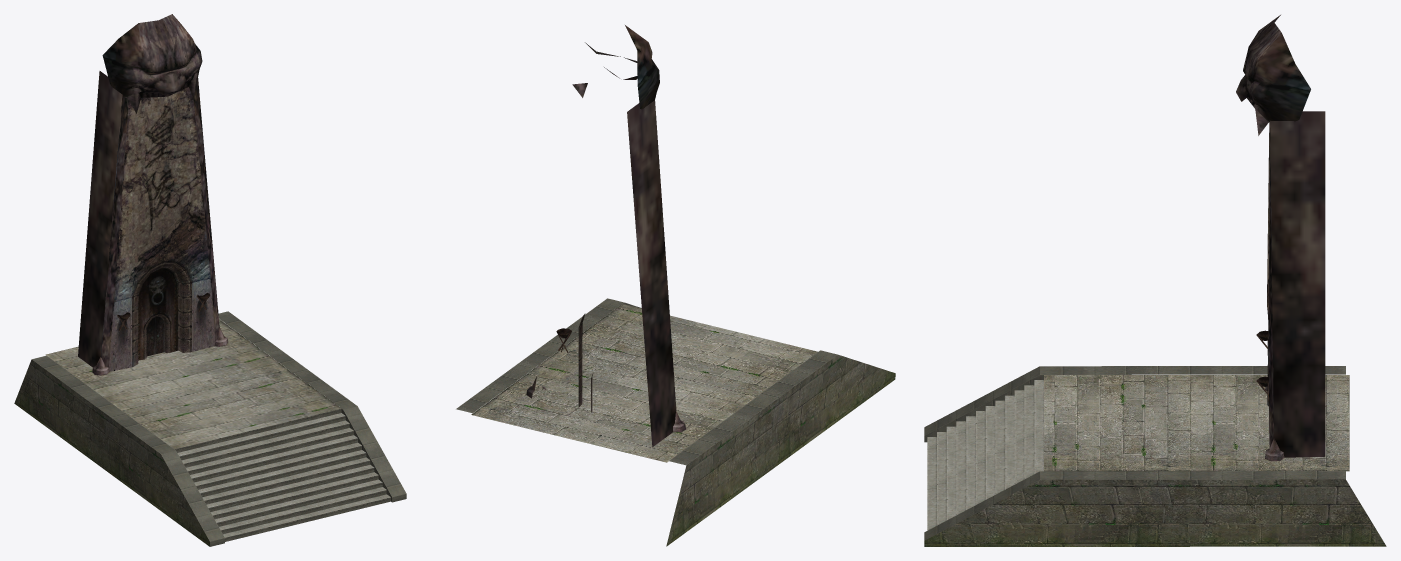
The model's file is cj_jin_entdoor01_01.glb.
3 renders of one model, left to right at view 1: azimuth 30°, elevation 25°; view 2: azimuth 150°, elevation 25°; view 3: azimuth 270°, elevation 25°, orthographic. The views are drawn at different scales.
Parts seen in each view (by area): view 1: cj_jin_entdoor01_stair02, cj_jin_entdoor01_01, cj_jin_entdoor01_stair01; view 2: cj_jin_entdoor01_stair02, cj_jin_entdoor01_01, cj_jin_entdoor01_stair01; view 3: cj_jin_entdoor01_stair02, cj_jin_entdoor01_01, cj_jin_entdoor01_stair01.
Part boxes in pixels (x1,y1,x2,y2): cj_jin_entdoor01_stair02: (14,319,390,546); cj_jin_entdoor01_01: (78,14,228,375); cj_jin_entdoor01_stair01: (32,311,406,546); cj_jin_entdoor01_stair02: (471,304,895,546); cj_jin_entdoor01_01: (526,25,685,446); cj_jin_entdoor01_stair01: (456,298,837,465); cj_jin_entdoor01_stair02: (924,375,1386,546); cj_jin_entdoor01_01: (1236,15,1325,461); cj_jin_entdoor01_stair01: (924,366,1345,540).
Size of the model in its own units: 14.1 by 27.03 by 24.29.
Materials: 3 (3 with a texture image).
